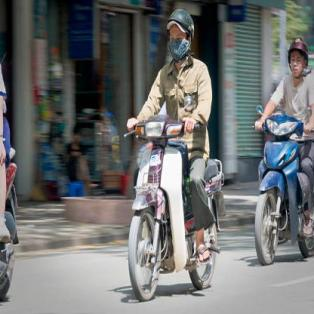Motocicleta: (121, 103, 223, 300), (248, 92, 314, 270)
